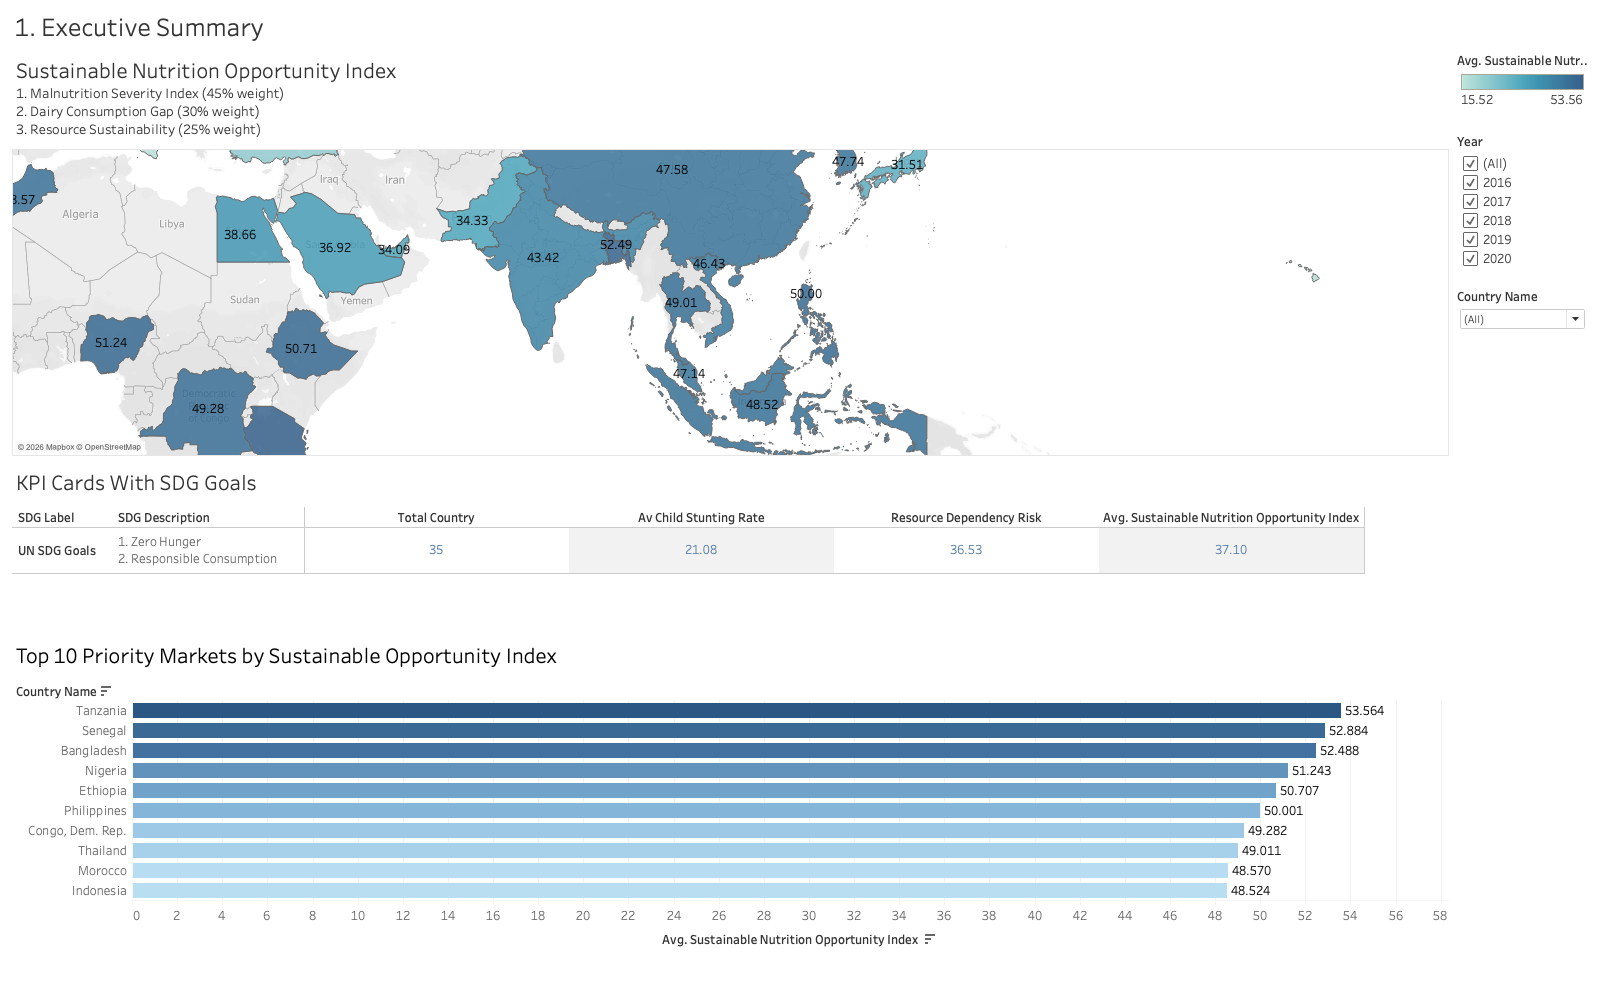

Layout of this report page (visuals, bound fields, positions):
{"tool":"tableau","page":{"name":"1. Executive Summary","canvas":[1000,1000],"units":"permille","ordinal":0},"visuals":[{"type":"worksheet","title":"Sustainable Nutrition Opportunity Index ","mark":"Automatic","box":[6.4,8.9,900.3,425.6]},{"type":"legend","title":"Sustainable Nutrition Opportunity Index ","param":"[federated.1823flp0yye8aa1earymd1le6a7y].[avg:Calculation_469148426881486856:qk]","box":[906.8,8.9,86.8,83.3]},{"type":"filter","title":"KPI","param":"[federated.1823flp0yye8aa1earymd1le6a7y].[yr:Year:ok]","box":[906.8,92.2,86.8,172.2]},{"type":"filter","title":"Sustainable Nutrition Opportunity Index ","param":"[federated.1823flp0yye8aa1earymd1le6a7y].[none:Country Name:nk]","box":[906.8,264.4,86.8,57.8]},{"type":"worksheet","title":"KPI","mark":"Automatic","rows":["Calculation_469148426871828484","Calculation_469148426871889925"],"box":[6.4,434.4,900.3,177.8]},{"type":"worksheet","title":"Top 10 Priority","mark":"Automatic","rows":["Country Name"],"cols":["Calculation_469148426881486856"],"box":[6.4,612.2,900.3,378.9]}]}

Visuals, with their boxes on the dashboard's canvas, which has no fixed pixel size, in thousandths of its width and height (x1, y1, x2, y2). These are canvas units, not pixel positions in the 1605x1004 screenshot, which may show the page scaled, cropped or inside an application window:
"Sustainable Nutrition Opportunity Index " worksheet: 6, 9, 907, 434
"Sustainable Nutrition Opportunity Index " legend: 907, 9, 994, 92
"KPI" filter: 907, 92, 994, 264
"Sustainable Nutrition Opportunity Index " filter: 907, 264, 994, 322
"KPI" worksheet: 6, 434, 907, 612
"Top 10 Priority" worksheet: 6, 612, 907, 991
